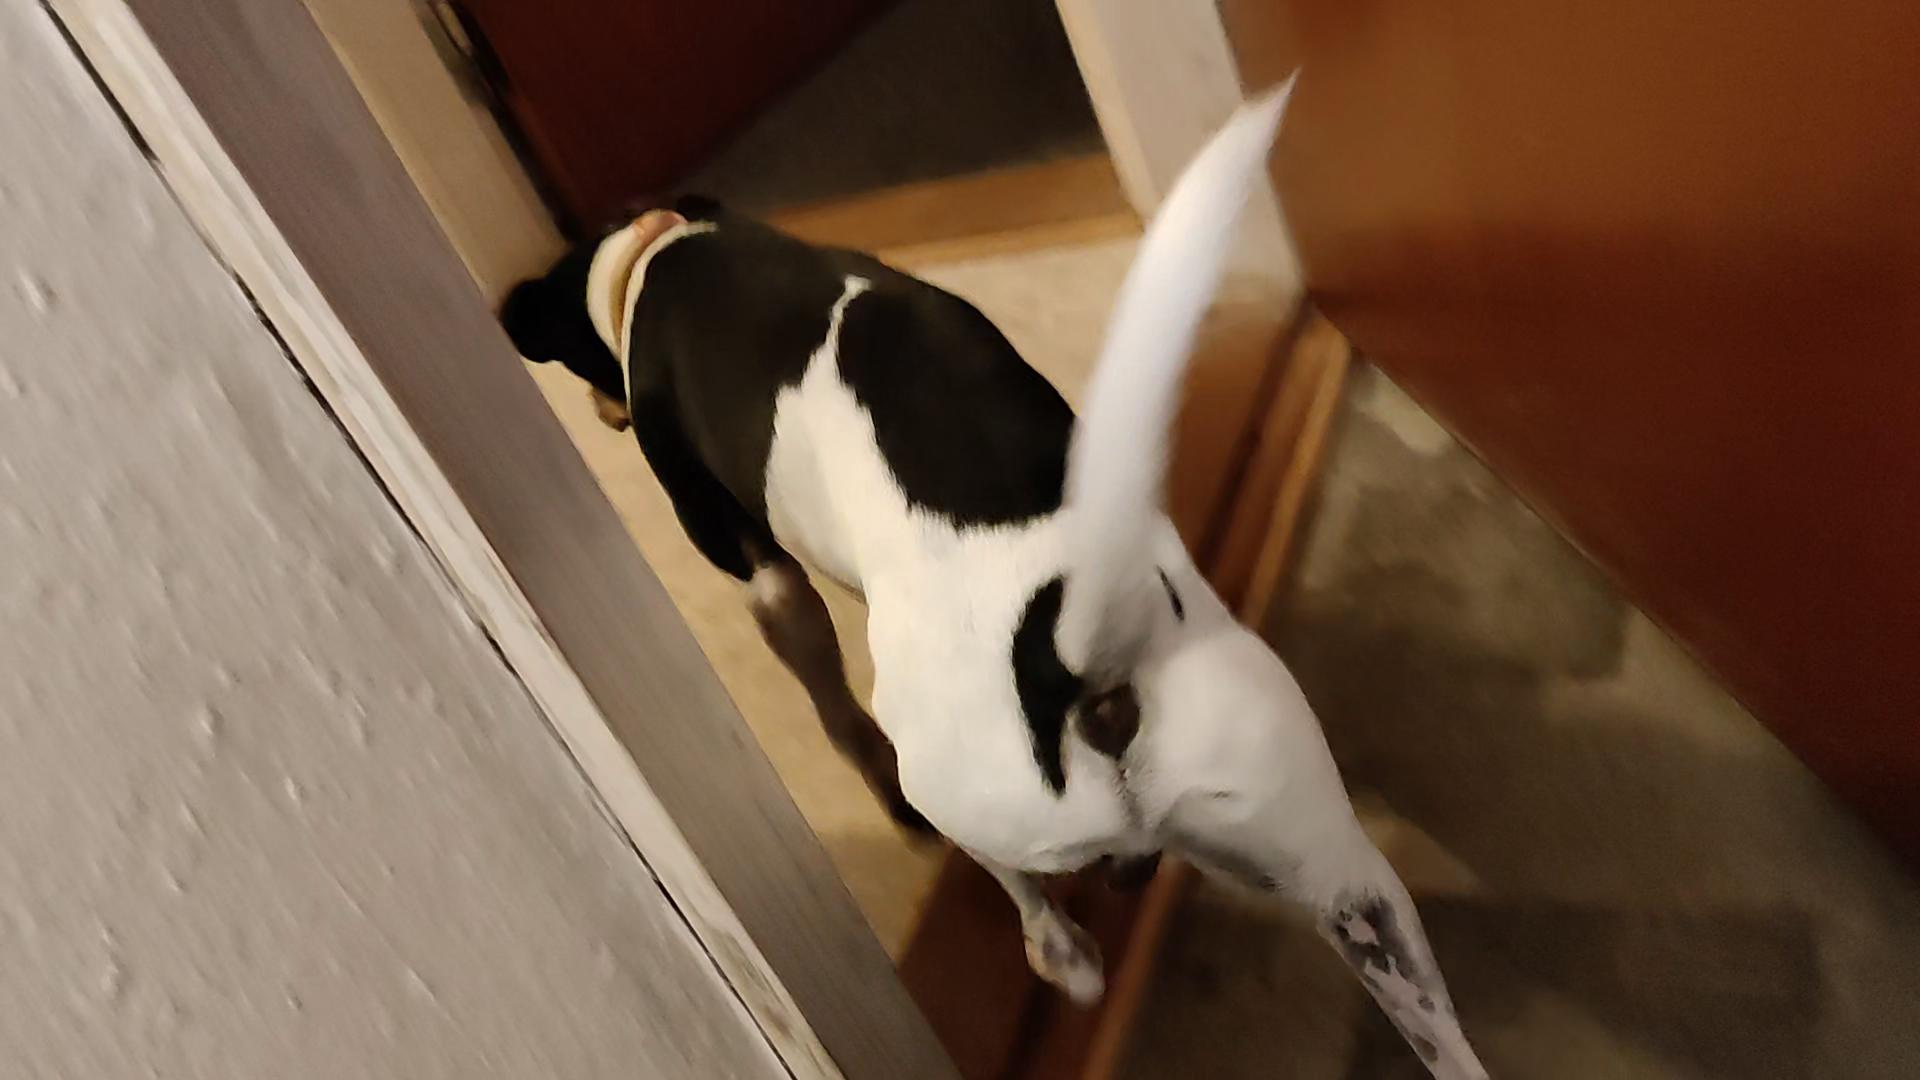Dog: (484, 47, 1534, 1079)
